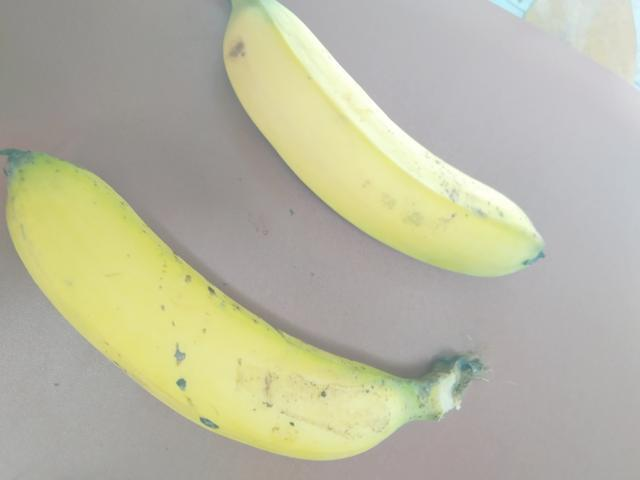freshripe: (204, 0, 559, 288)
ripe: (11, 138, 464, 479)
